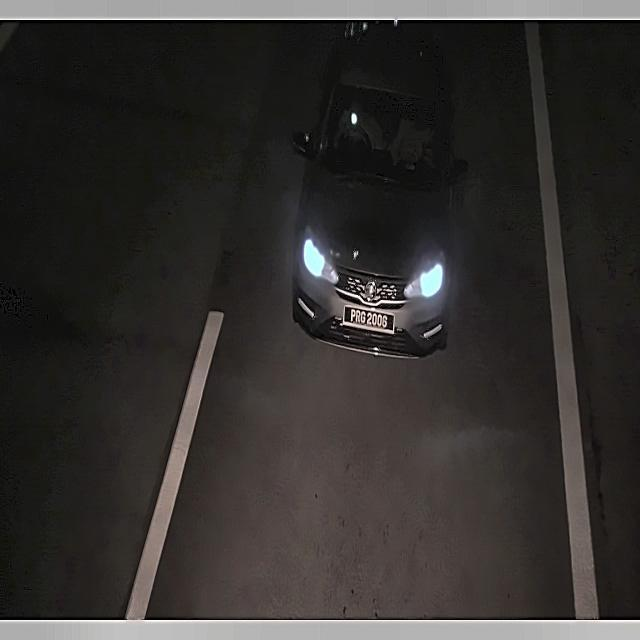car: (340, 302, 401, 339)
